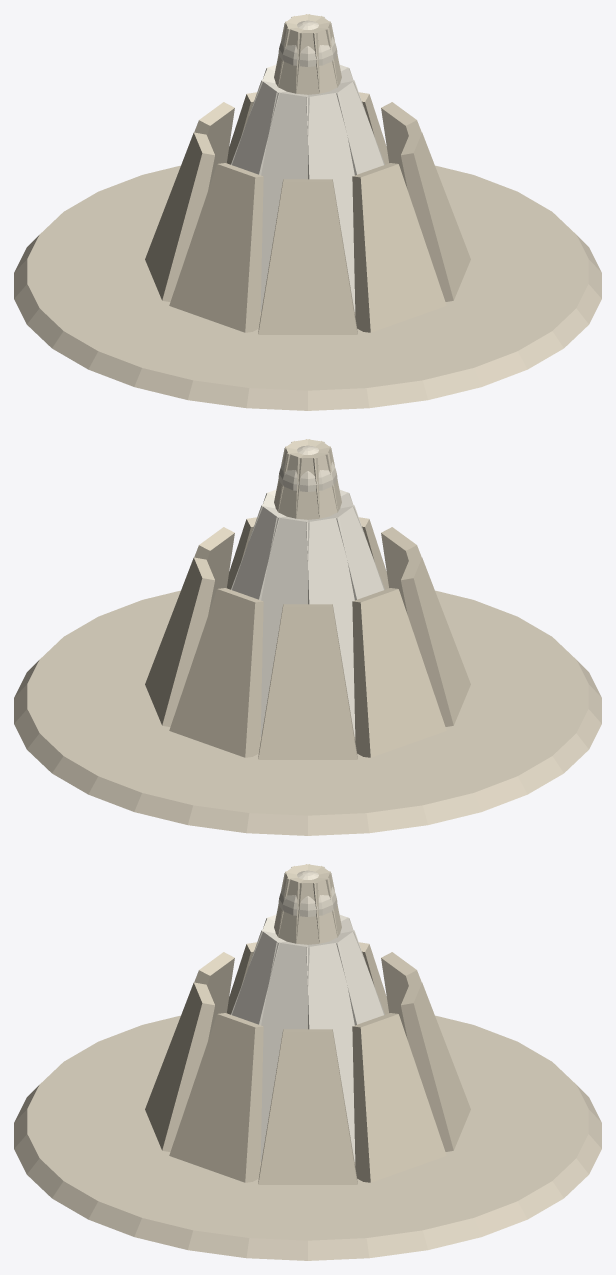
File: lotus-temple.glb
3 views of the same model, one above another, from view 1: azimuth 30°, elevation 25°; view 2: azimuth 150°, elevation 25°; view 3: azimuth 270°, elevation 25° (orthographic).
Parts seen in each view (by area): view 1: lotus-temple; view 2: lotus-temple; view 3: lotus-temple.
Part boxes in pixels (<box>): lotus-temple: <box>14,14,601,410</box>; lotus-temple: <box>14,439,601,835</box>; lotus-temple: <box>14,864,601,1260</box>.
Size of the model in its own units: 8.15 by 4 by 8.1.
